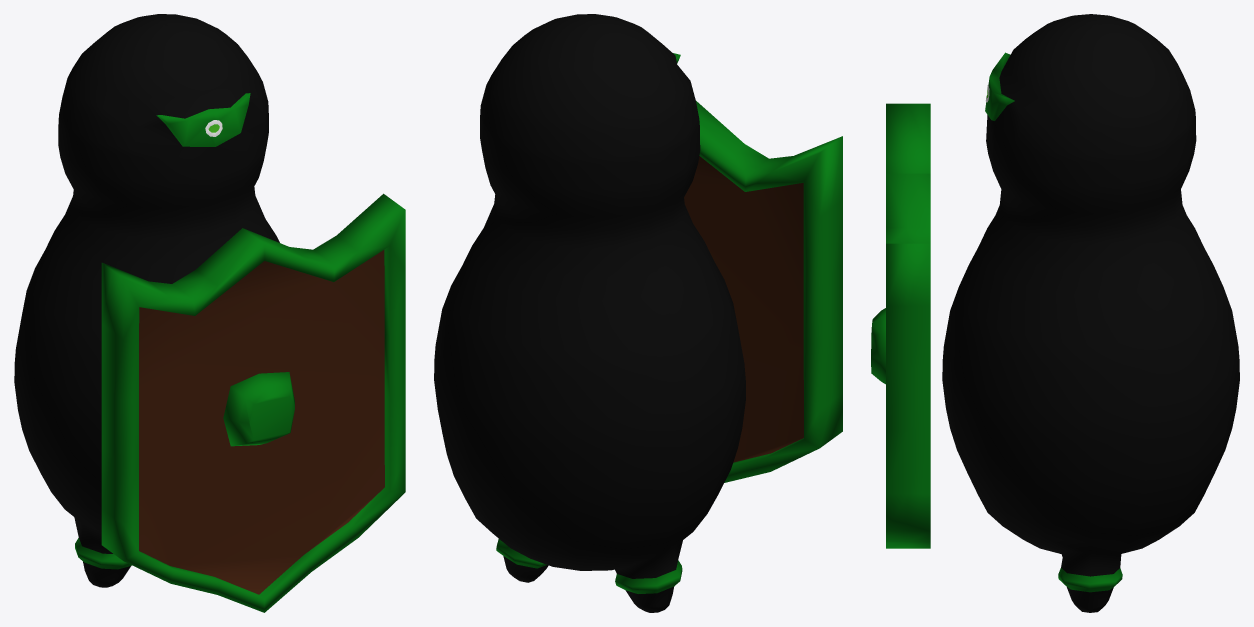
File: Tanque_Animation.FBX
3 views of the same model, side by side, from view 1: azimuth 30°, elevation 25°; view 2: azimuth 150°, elevation 25°; view 3: azimuth 270°, elevation 25° (orthographic). The views are drawn at different scales.
Visible parts, largest first — view 1: Tanque; view 2: Tanque; view 3: Tanque.
Boxes of the visible parts, x1,y1,x2,y2 form: Tanque: (14,14,405,612); Tanque: (434,14,842,612); Tanque: (871,14,1239,612).
Size of the model in its own units: 2.25 by 2.5 by 4.17.
